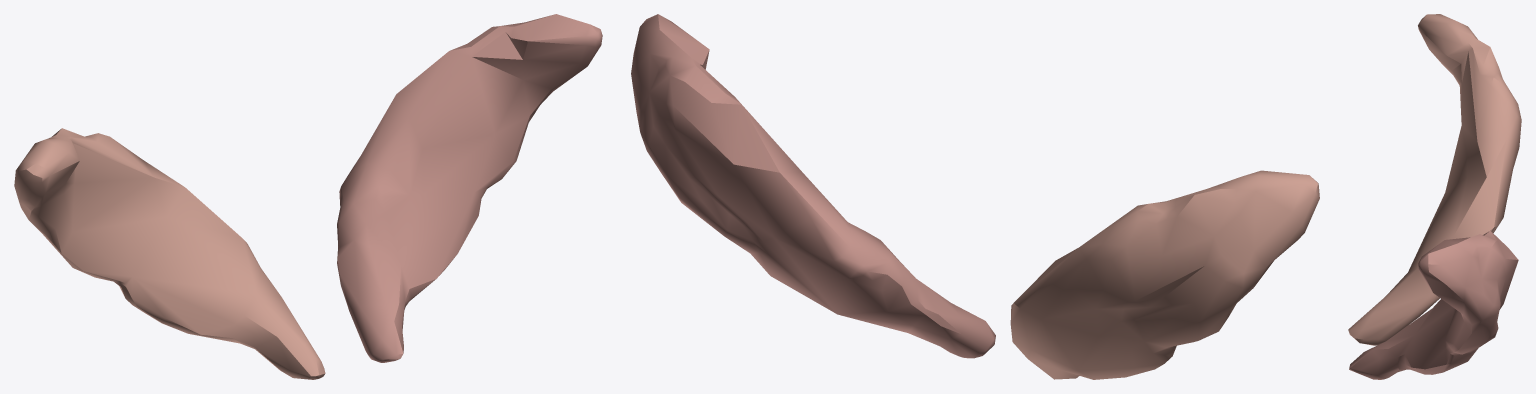
File: seminal-vesicles.glb
The picture shows the model from 3 angles, left to right: view 1: azimuth 30°, elevation 25°; view 2: azimuth 150°, elevation 25°; view 3: azimuth 270°, elevation 25°; orthographic projection. The views are drawn at different scales.
Visible parts, largest first — view 1: FJ3137 Left seminal vesicle, FJ3143 Right seminal vesicle; view 2: FJ3137 Left seminal vesicle, FJ3143 Right seminal vesicle; view 3: FJ3143 Right seminal vesicle, FJ3137 Left seminal vesicle.
Boxes of the visible parts, x1,y1,x2,y2 form: FJ3137 Left seminal vesicle: [337, 14, 602, 362]; FJ3143 Right seminal vesicle: [14, 128, 325, 379]; FJ3137 Left seminal vesicle: [631, 14, 995, 358]; FJ3143 Right seminal vesicle: [1010, 170, 1319, 379]; FJ3143 Right seminal vesicle: [1348, 14, 1521, 345]; FJ3137 Left seminal vesicle: [1349, 230, 1518, 379].
Size of the model in its own units: 0.0693 by 0.0295 by 0.0202.
